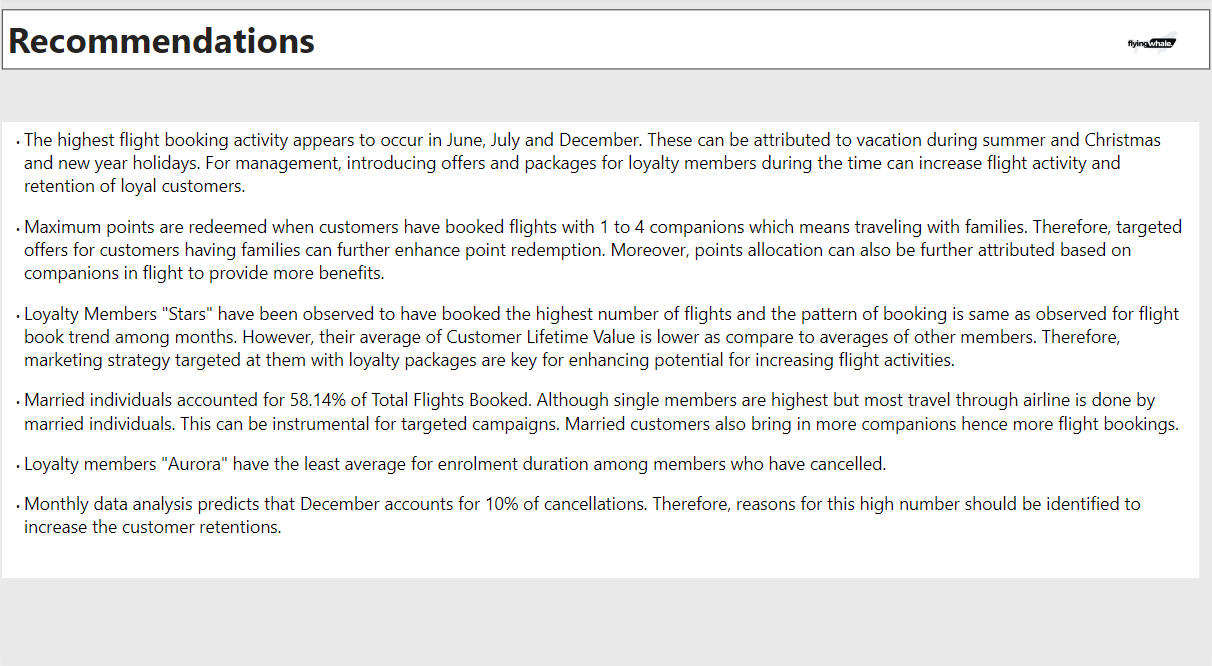

The dashboard page shown, as its layout file describes it:
{"tool":"powerbi","page":{"name":"Recommendations","canvas":[1280,720],"ordinal":4},"visuals":[{"type":"textbox","box":[0,14.6,1279.8,63.1],"z":0},{"type":"textbox","box":[0,133.5,1268.3,483.2],"z":1000},{"type":"image","box":[1158.7,14.3,120.8,63.6],"z":1001}]}

Visuals, with their boxes in screenshot pixels (x1, y1, x2, y2), scaled from the page's 1280x720 canvas onto the 1212x666 screenshot:
textbox: [left=0, top=14, right=1211, bottom=72]
textbox: [left=0, top=123, right=1201, bottom=570]
image: [left=1097, top=13, right=1211, bottom=72]
